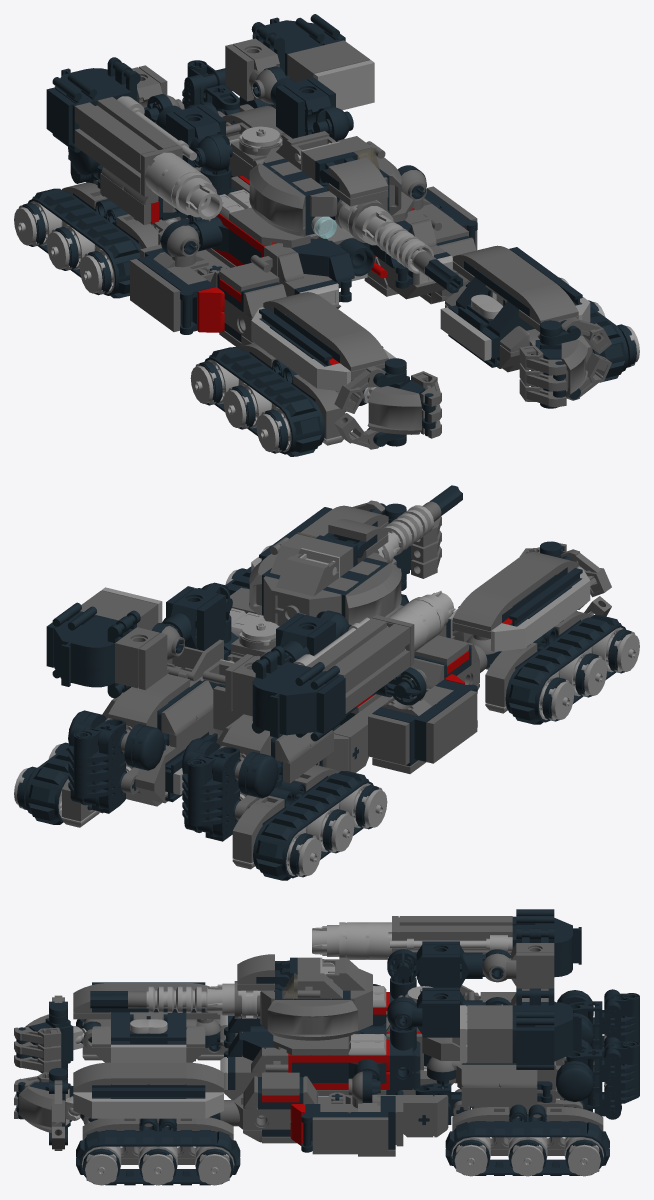
Rendered from th-nx-01-bushwacker-tank.dae.
The picture shows the model from 3 angles, top to bottom: view 1: azimuth 30°, elevation 25°; view 2: azimuth 150°, elevation 25°; view 3: azimuth 270°, elevation 25°; orthographic projection. The views are drawn at different scales.
Bounding box in the file's own units: 392 × 664 × 194.
